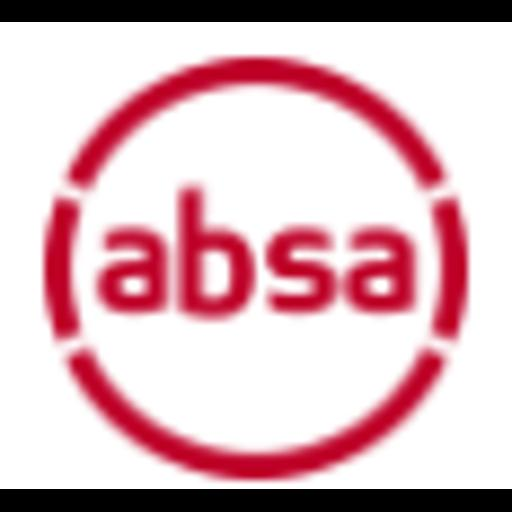Absa Group: (0, 22, 512, 489)
